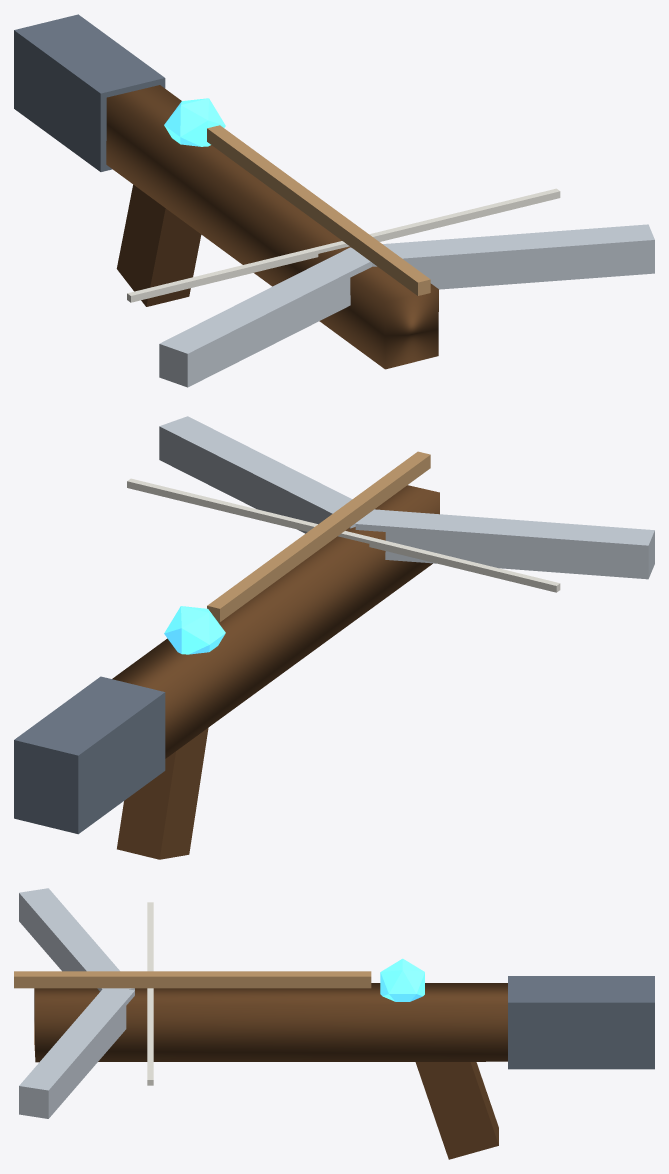
File: weapon_crossbow_t2.glb
The picture shows the model from 3 angles, top to bottom: view 1: azimuth 30°, elevation 25°; view 2: azimuth 150°, elevation 25°; view 3: azimuth 270°, elevation 25°; orthographic projection. The views are drawn at different scales.
Visible parts, largest first — view 1: item_wood2, item_metal2, item_darkMetal2, item_bolt, item_string, item_gem2; view 2: item_wood2, item_metal2, item_darkMetal2, item_bolt, item_string, item_gem2; view 3: item_wood2, item_darkMetal2, item_metal2, item_bolt, item_gem2, item_string.
Boxes of the visible parts, box(x1,y1,x2,y2) form: item_wood2: box(106, 85, 438, 369); item_metal2: box(159, 224, 654, 387); item_darkMetal2: box(14, 14, 165, 171); item_bolt: box(207, 125, 430, 295); item_string: box(127, 188, 560, 302); item_gem2: box(164, 98, 225, 146); item_wood2: box(112, 485, 439, 859); item_metal2: box(159, 416, 654, 579); item_darkMetal2: box(14, 676, 165, 834); item_bolt: box(207, 451, 430, 622); item_string: box(127, 478, 560, 592); item_gem2: box(164, 606, 225, 654); item_wood2: box(34, 983, 507, 1159); item_darkMetal2: box(508, 976, 654, 1069); item_metal2: box(19, 888, 134, 1118); item_bolt: box(14, 971, 371, 988); item_gem2: box(380, 958, 424, 1001); item_string: box(147, 902, 153, 1085).
Size of the model in its own units: 0.4557 by 0.196 by 0.61.
